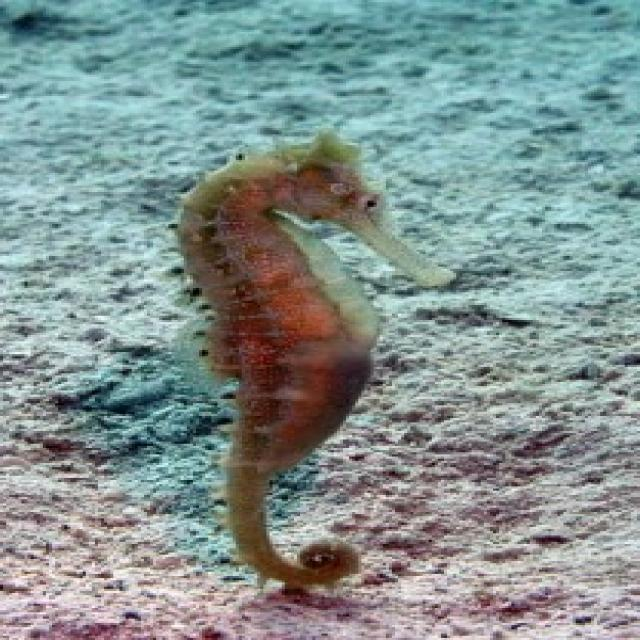Seahorse: (143, 131, 454, 594)
